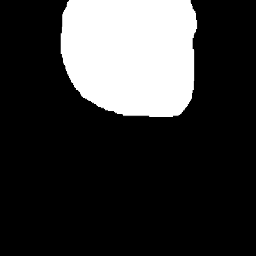mass: (60, 2, 182, 101)
